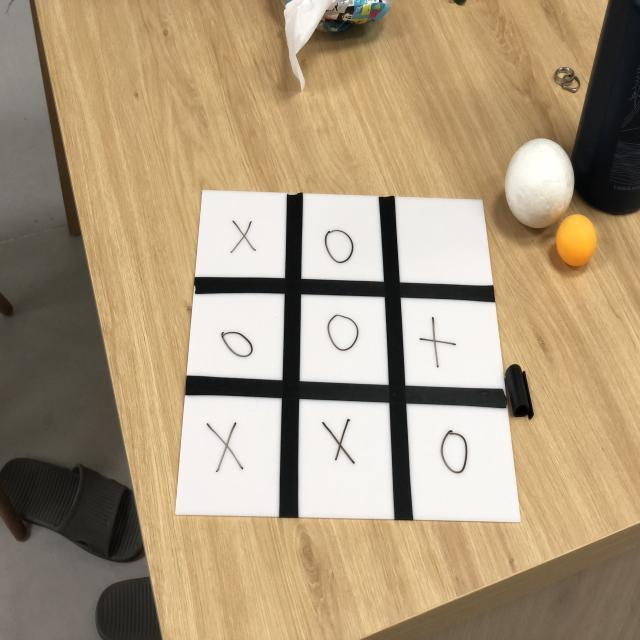null: (174, 189, 534, 527)
o: (325, 310, 364, 357), (219, 324, 257, 368), (439, 428, 472, 478), (323, 224, 356, 266)
x: (202, 416, 249, 476), (415, 315, 459, 373), (323, 415, 358, 472), (227, 211, 257, 258)
